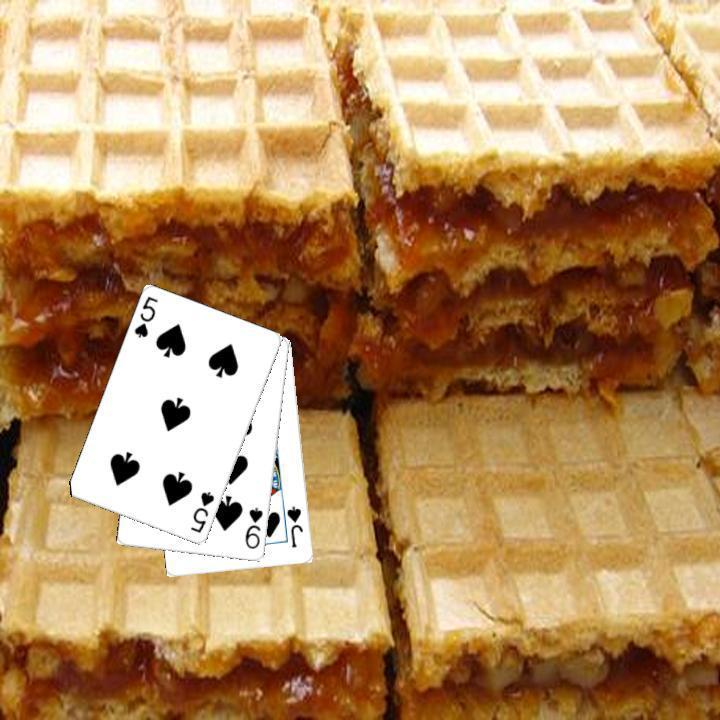5: (186, 488, 217, 535), (130, 292, 160, 340)
9: (241, 503, 265, 551)
J: (283, 502, 305, 549)
